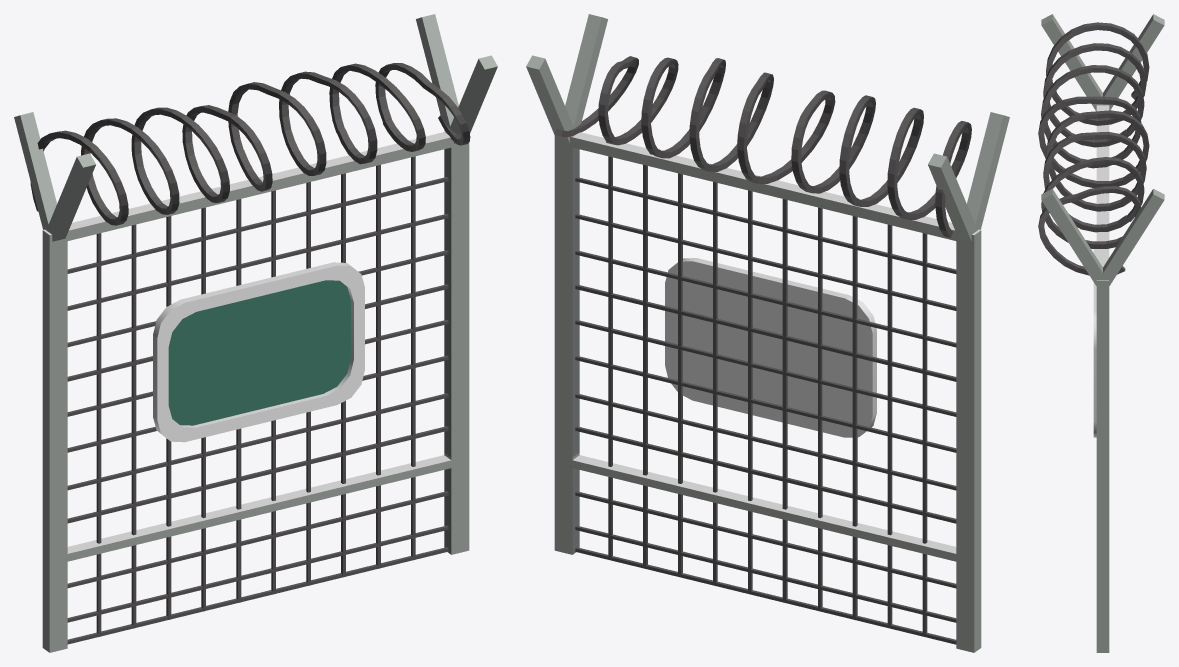
Rendered from net1.fbx.
3 renders of one model, left to right at view 1: azimuth 30°, elevation 25°; view 2: azimuth 150°, elevation 25°; view 3: azimuth 270°, elevation 25°, orthographic. The views are drawn at different scales.
Visible parts, largest first — view 1: net1; view 2: net1; view 3: net1.
Part boxes in pixels (box(x1,y1,x2,y2)): net1: box(14, 14, 497, 652); net1: box(526, 14, 1009, 652); net1: box(1038, 14, 1164, 652).
Bounding box in the file's own units: 167 × 196 × 48.8.
